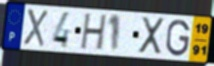1: (106, 14, 121, 54)
4: (50, 10, 73, 50)
G: (165, 18, 191, 58)
H: (79, 13, 109, 52)
X: (138, 16, 166, 56), (22, 8, 49, 49)
